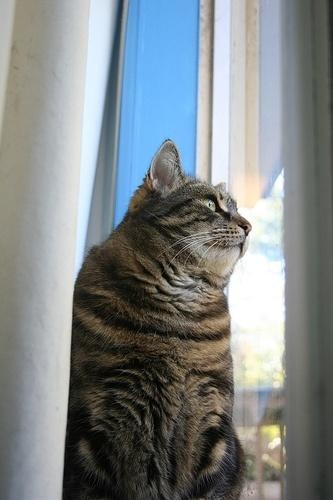cat: (64, 143, 257, 500)
